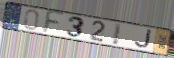0: (23, 9, 41, 32)
2: (89, 21, 107, 44)
3: (65, 16, 88, 39)
F: (41, 9, 66, 35)
I: (112, 22, 124, 46)
J: (134, 29, 153, 50)
